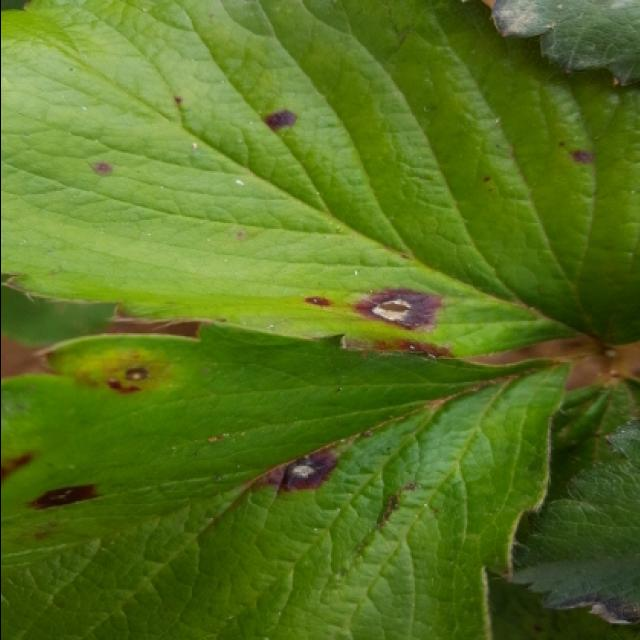Leaf Spot: (2, 0, 640, 359), (2, 321, 574, 638)
